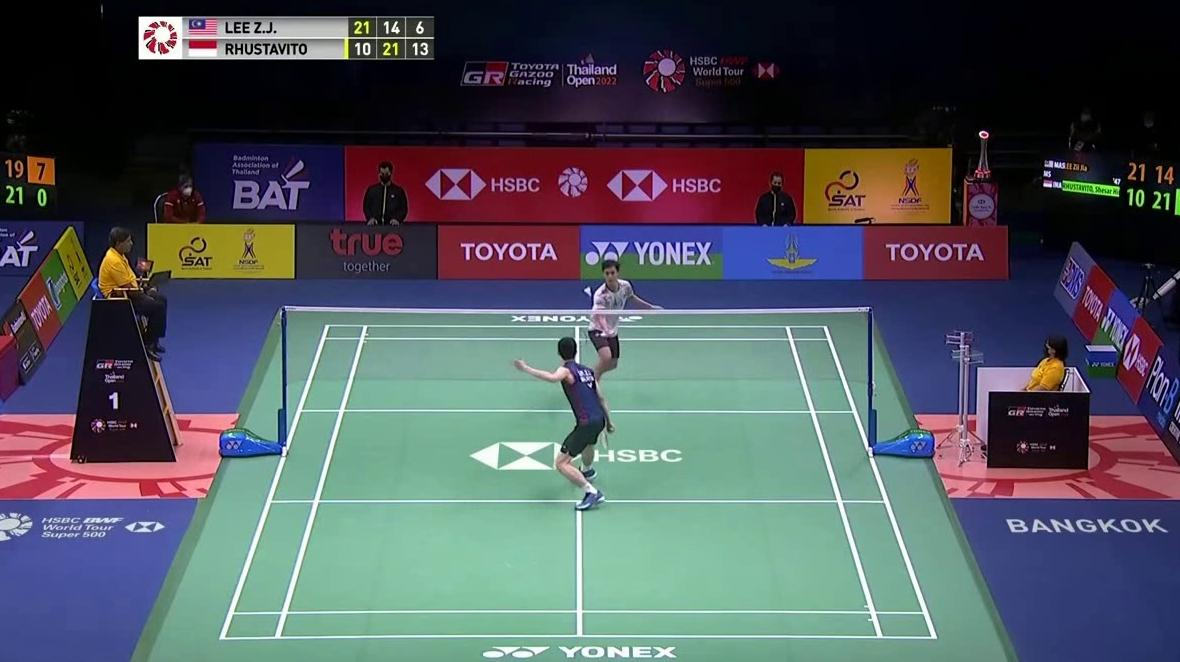racket: (571, 330, 608, 347), (599, 415, 612, 450)
shuttle: (583, 286, 593, 298)
